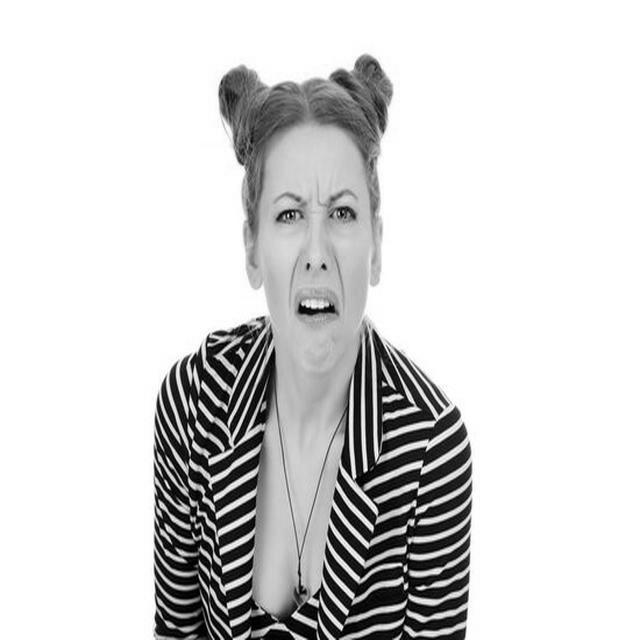Disgust: (259, 122, 372, 377)
